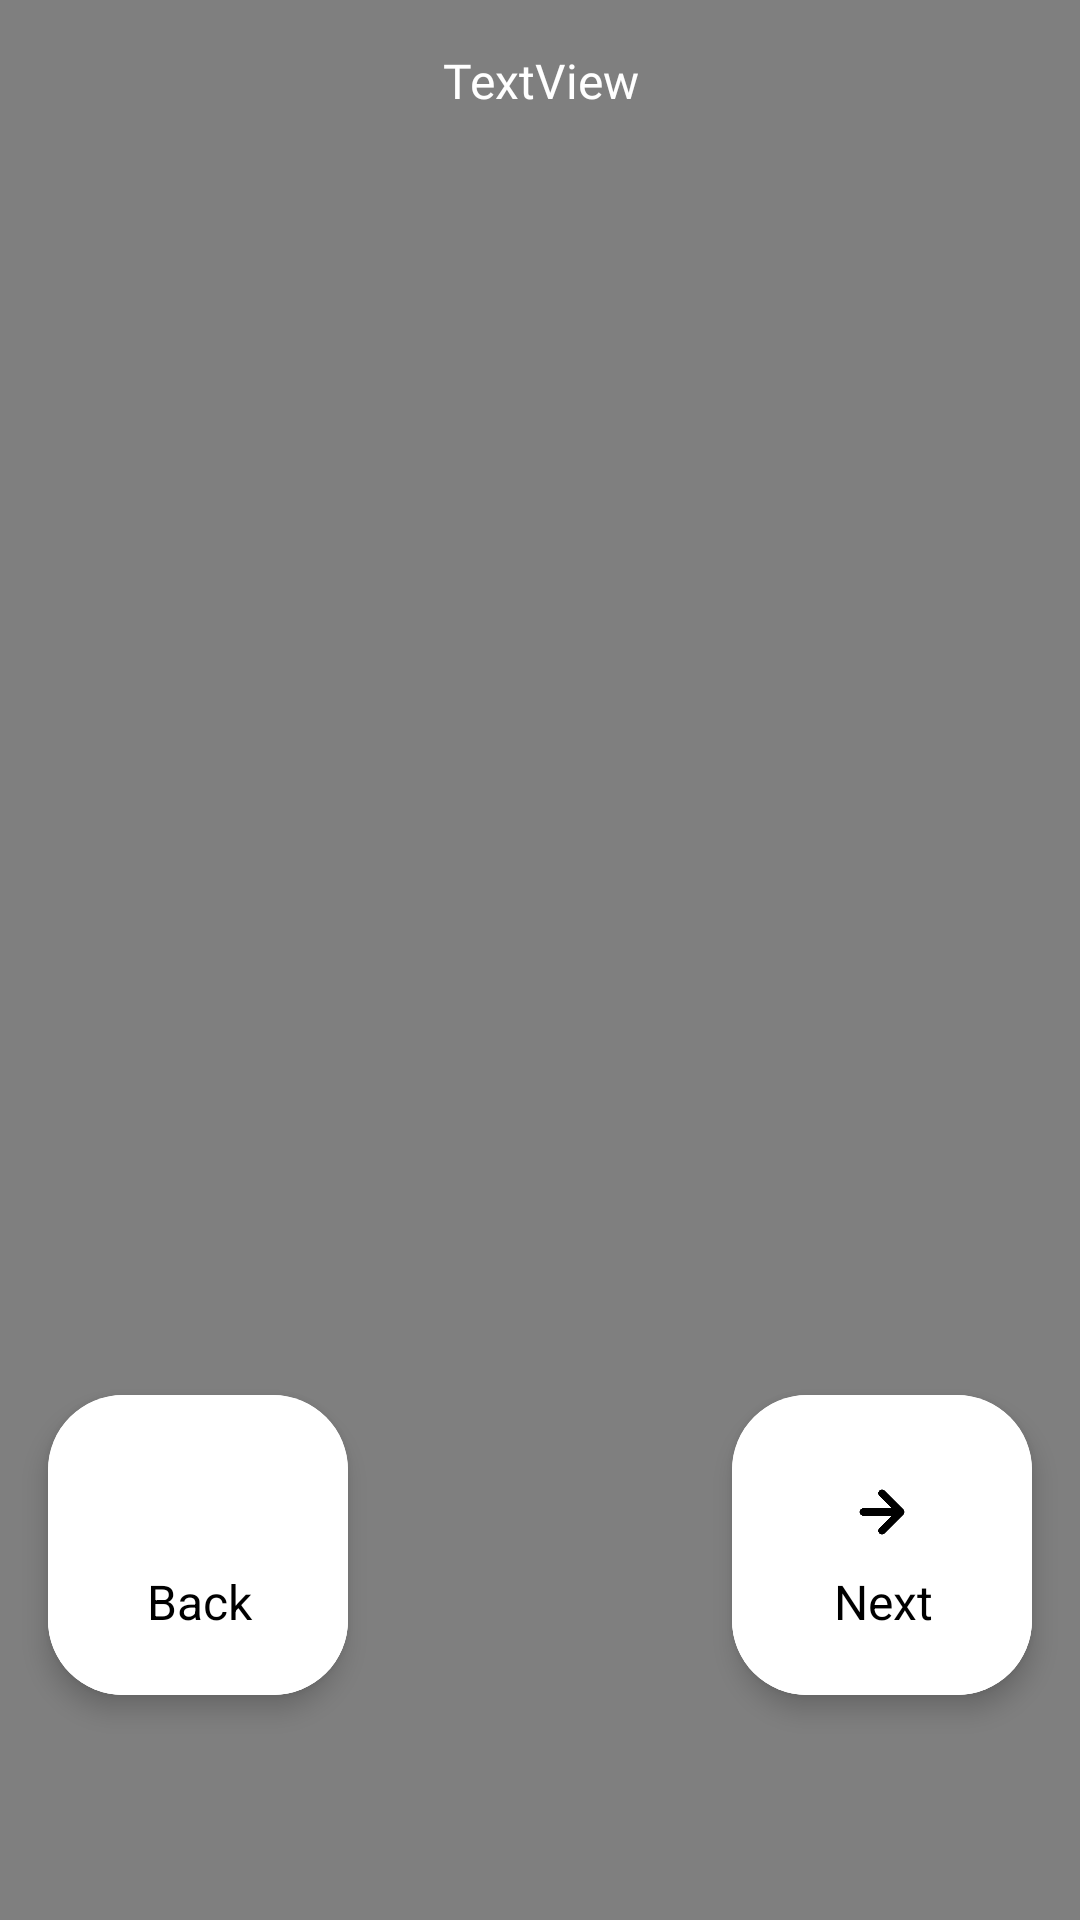

Point at icon controls on the screen. Image size 1080px x 1920px, points as point (x, y).
rightarrow: point (882, 1512)
